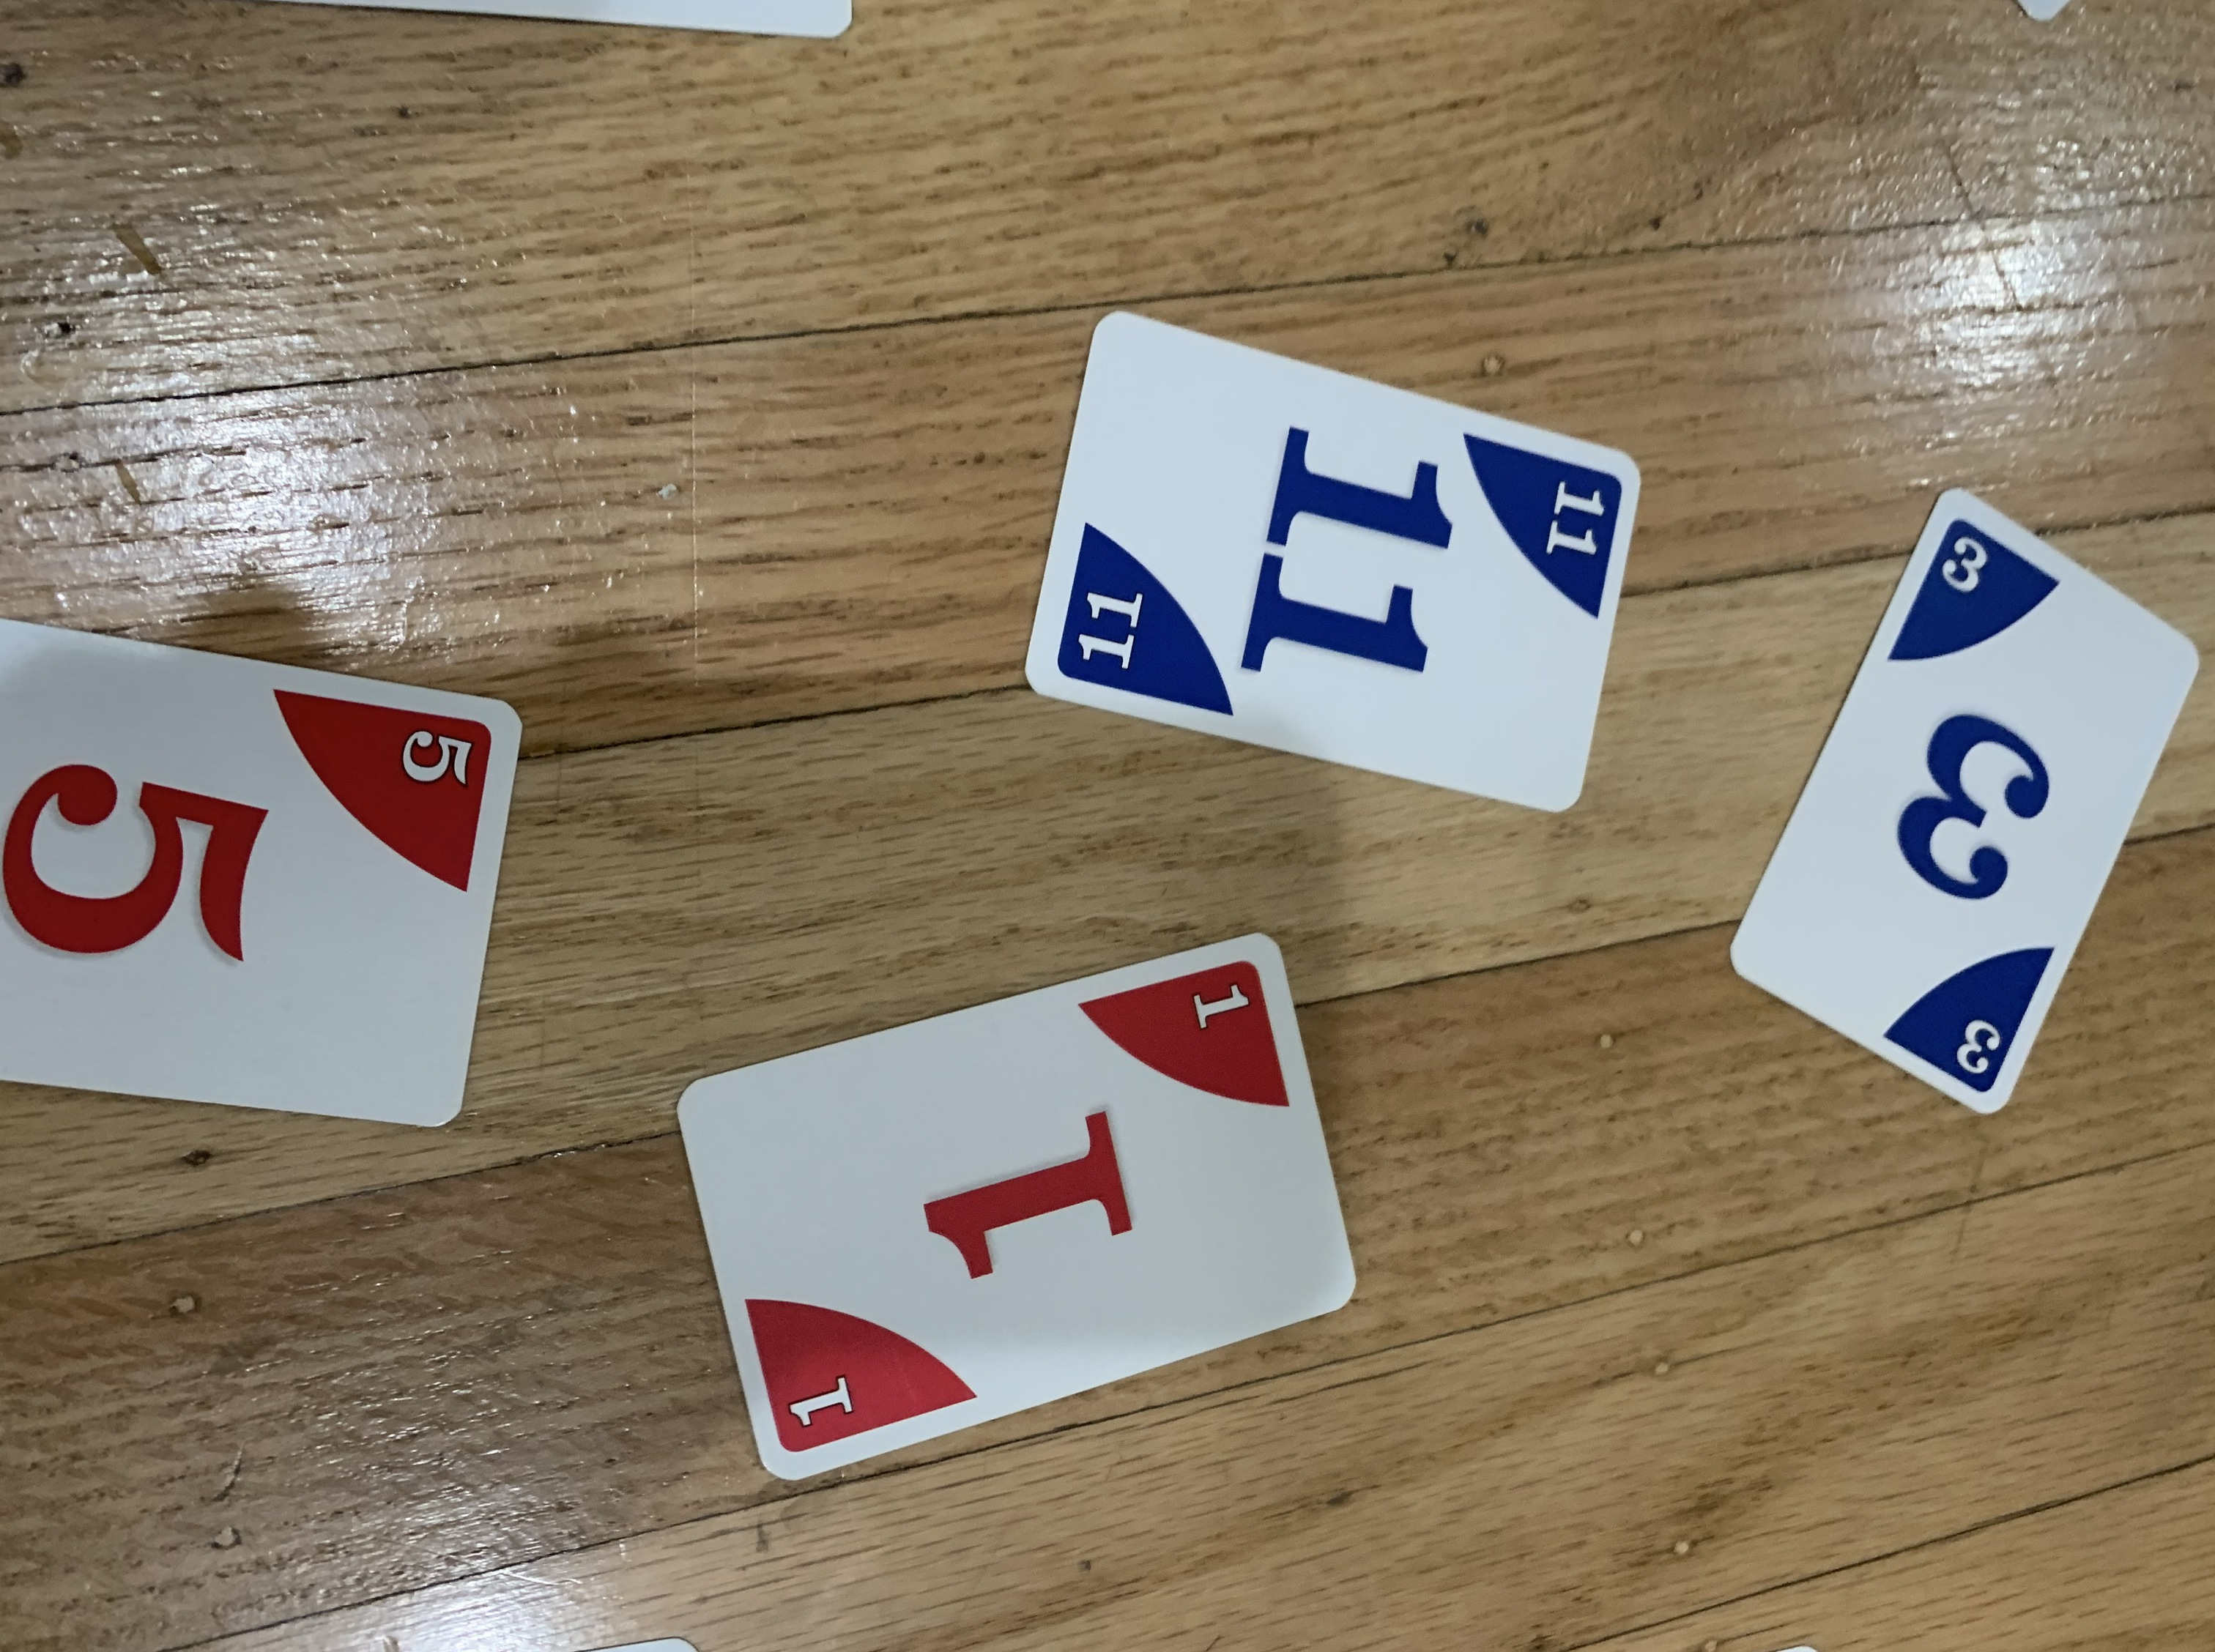eleven: (1017, 297, 1654, 826)
five: (0, 599, 529, 1140)
one: (654, 915, 1375, 1487)
three: (1719, 475, 2201, 1138)
